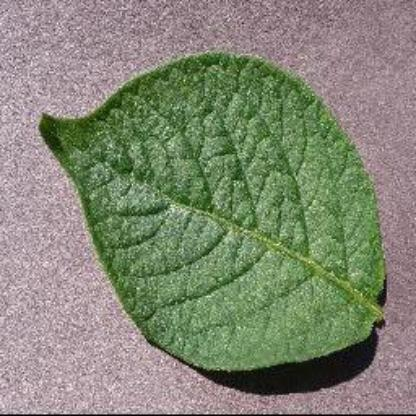Healthy-plant: (31, 41, 397, 397)
